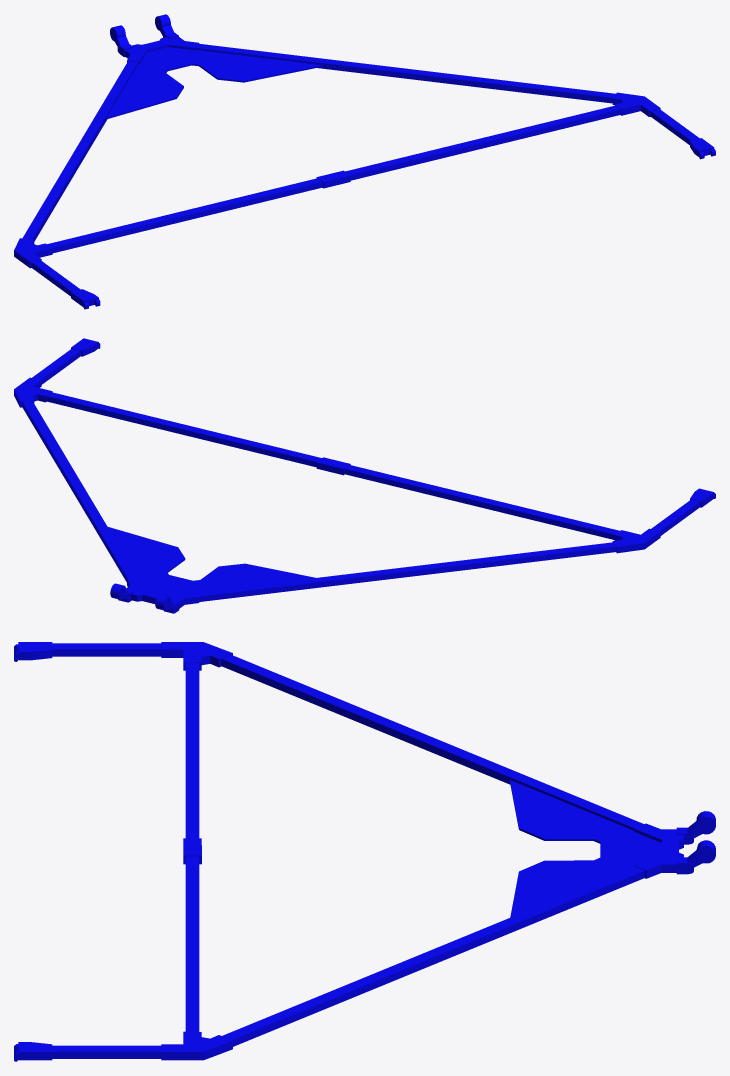
File: psycheSolarBars1_a.obj
3 renders of one model, top to bottom at view 1: azimuth 30°, elevation 25°; view 2: azimuth 150°, elevation 25°; view 3: azimuth 270°, elevation 25°, orthographic. The views are drawn at different scales.
Size of the model in its own units: 309 by 9.94 by 224.
